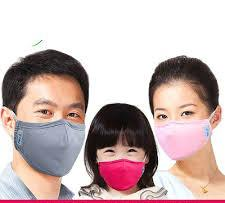OK: (12, 96, 92, 176), (153, 102, 212, 160), (100, 141, 145, 191)
